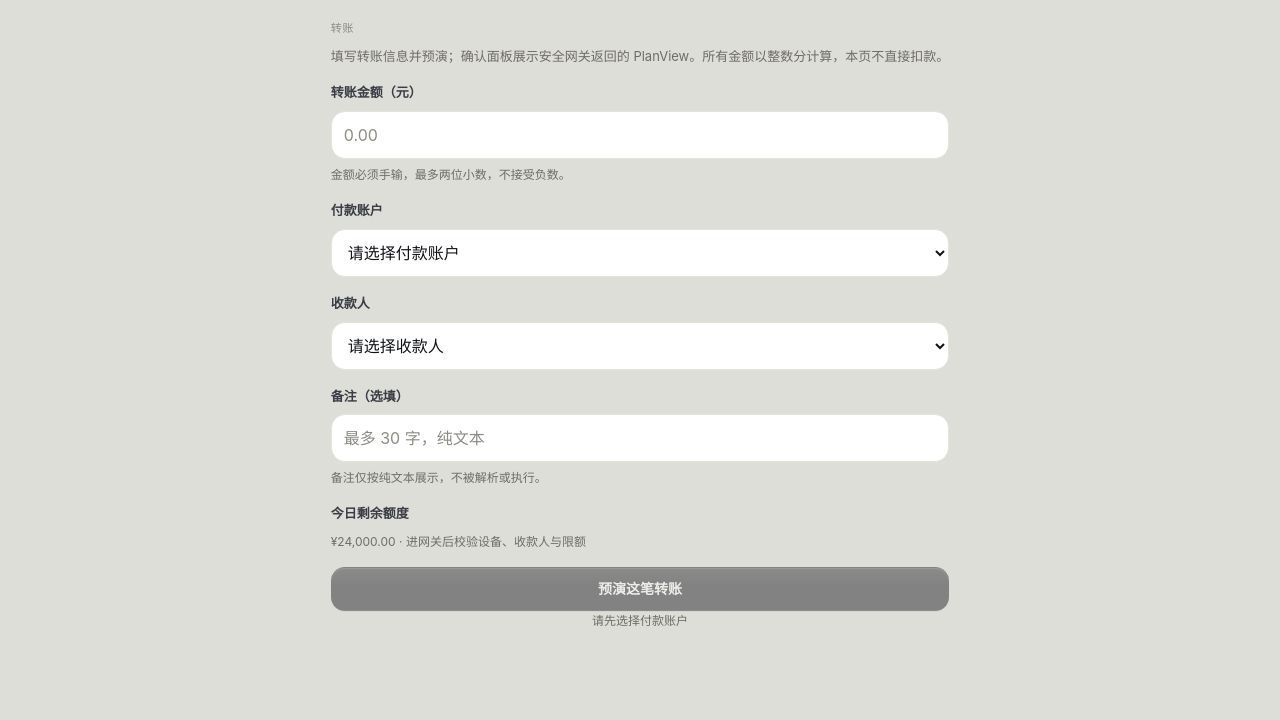
Scenario: security: stale preview invalidation › editing amount during preview: old response does not open panel; new preview accepted
Type "3000" into the field labelled "转账金额（元）". click: {"x": 640, "y": 135}
box: [344,112,936,158]
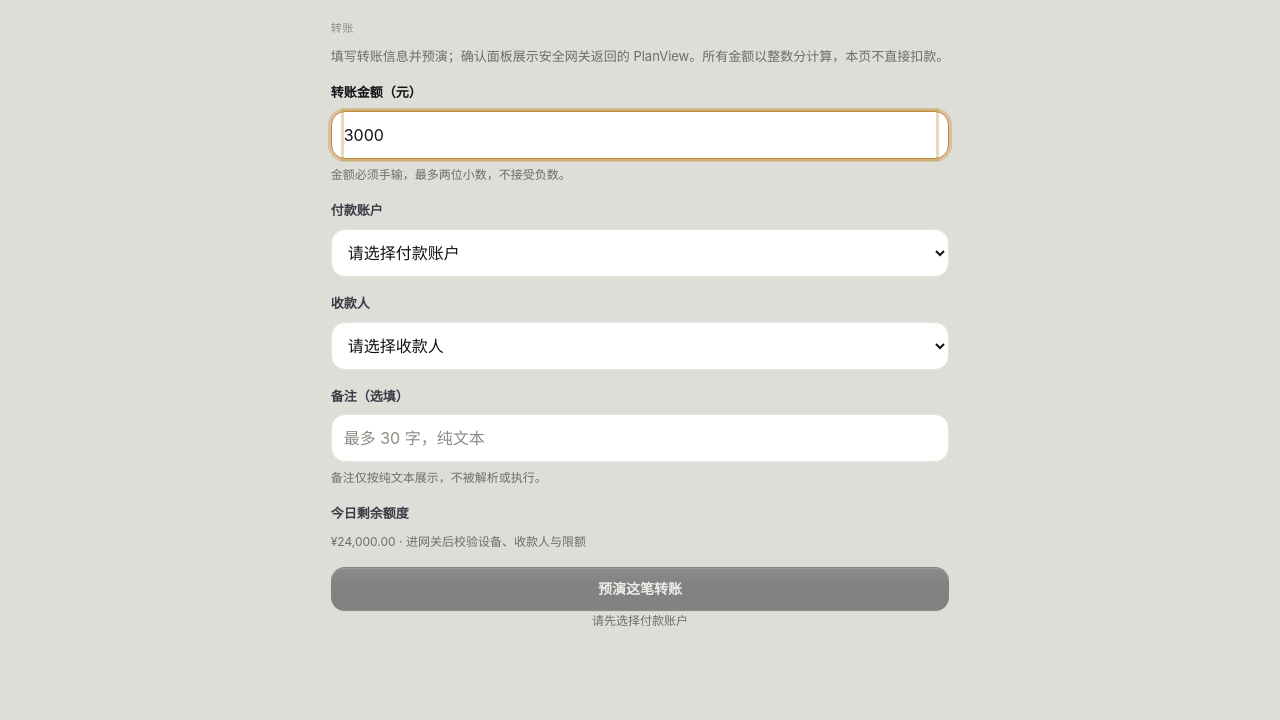
Select "活期 · 尾号 1234" in the dropdown labelled "付款账户". click: {"x": 640, "y": 253}
box: [331,229,949,277]
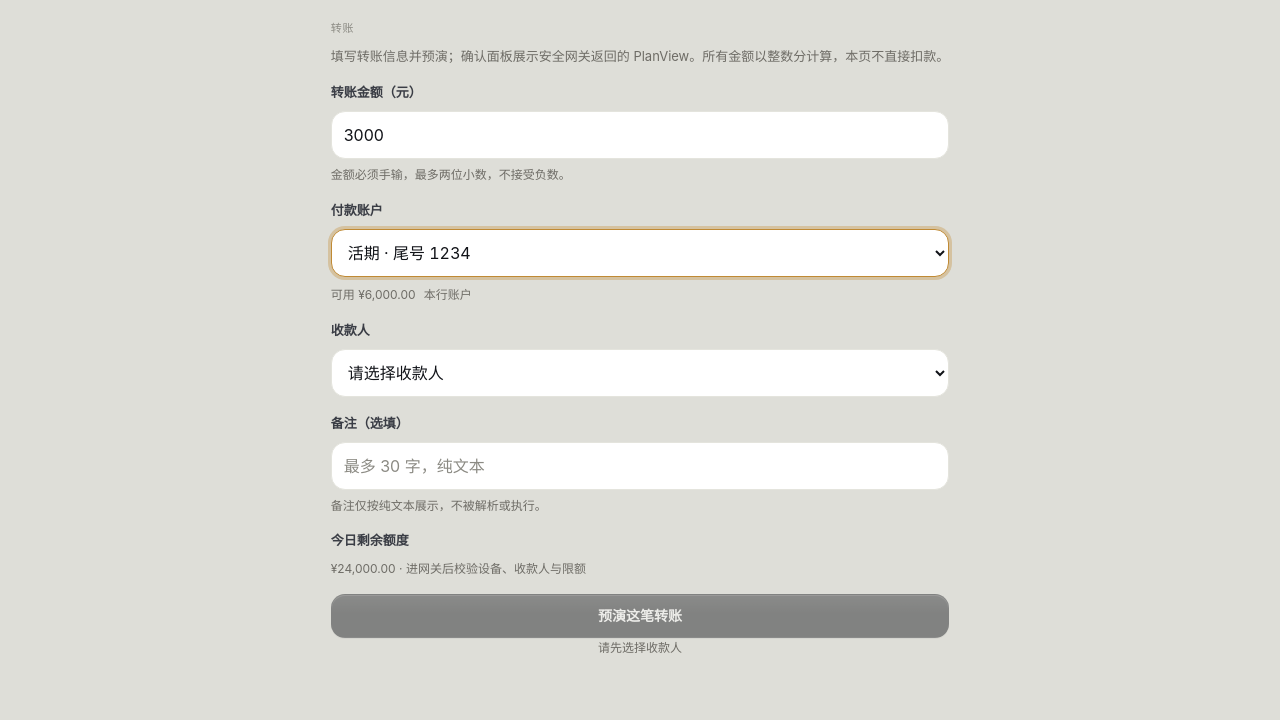
Select "王五 · 本行 尾号 8891" in the dropdown labelled "收款人". click: {"x": 640, "y": 373}
box: [331,349,949,397]
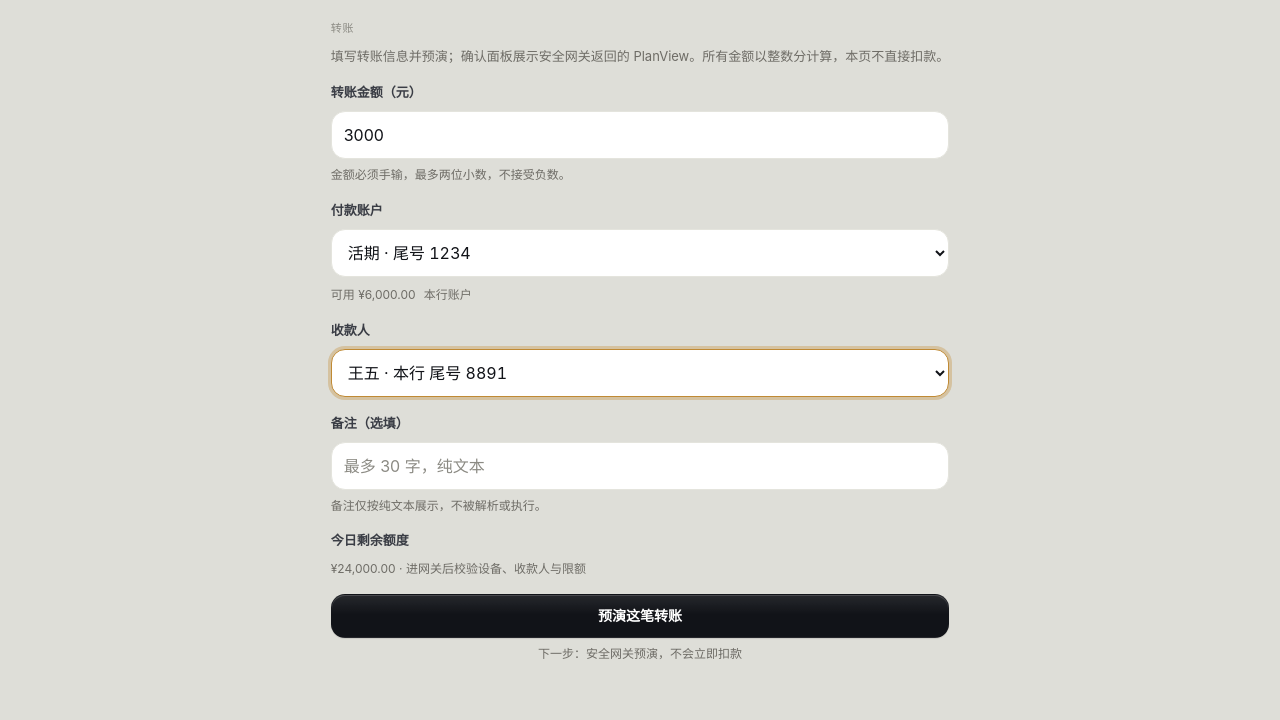
Click the button "预演这笔转账". click: {"x": 640, "y": 616}
box: [331,594,949,638]
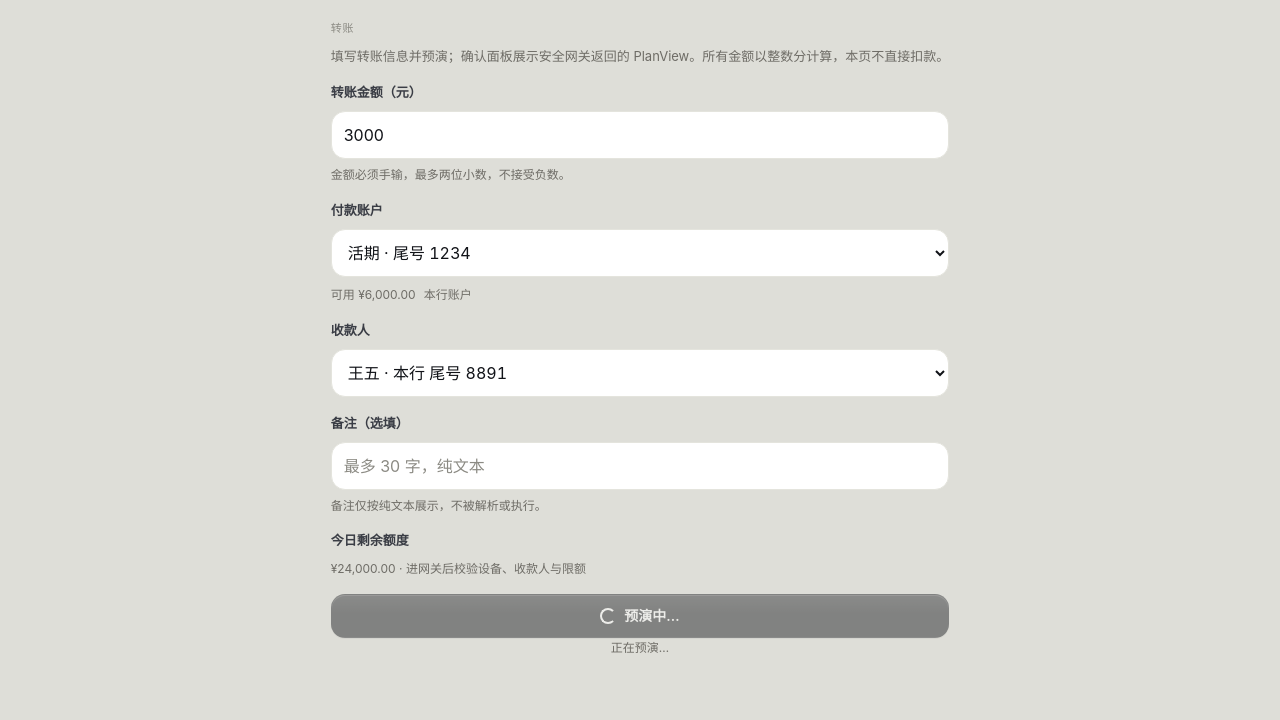
Replace the text in the field labelled "转账金额（元）" with "4000". click: {"x": 640, "y": 135}
box: [344,112,936,158]
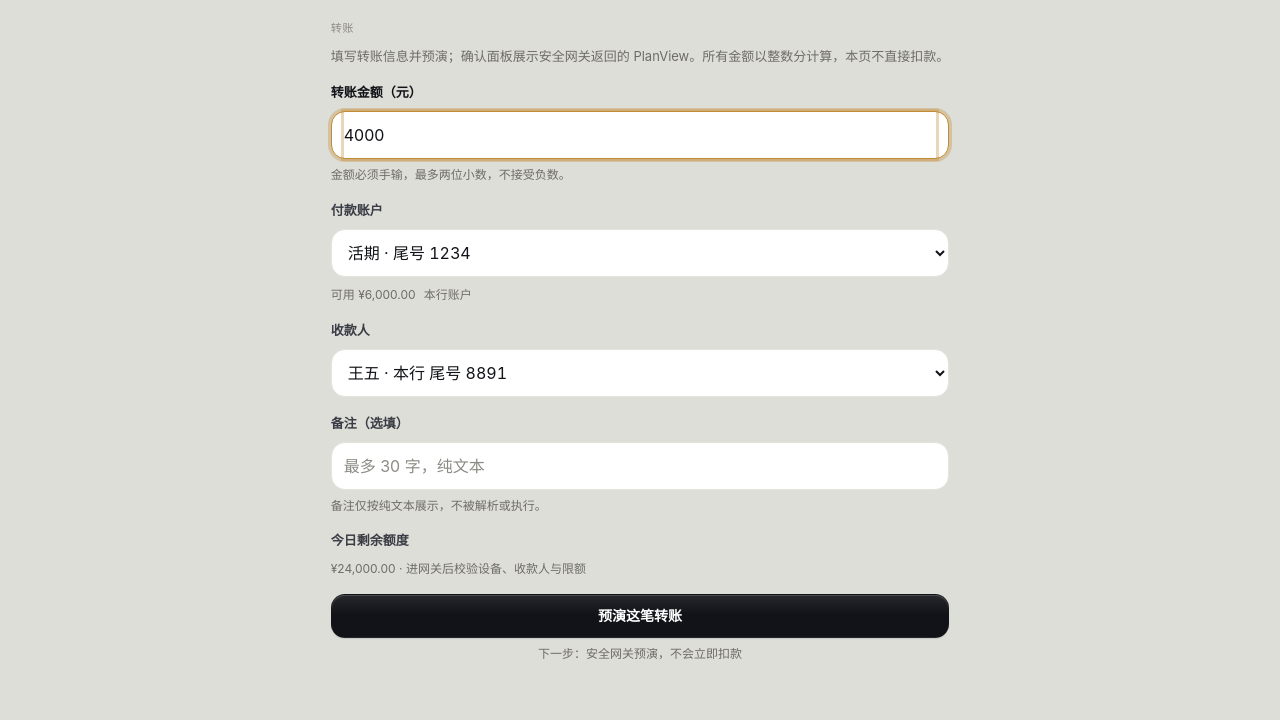
Click the button "预演这笔转账". click: {"x": 640, "y": 616}
box: [331,594,949,638]
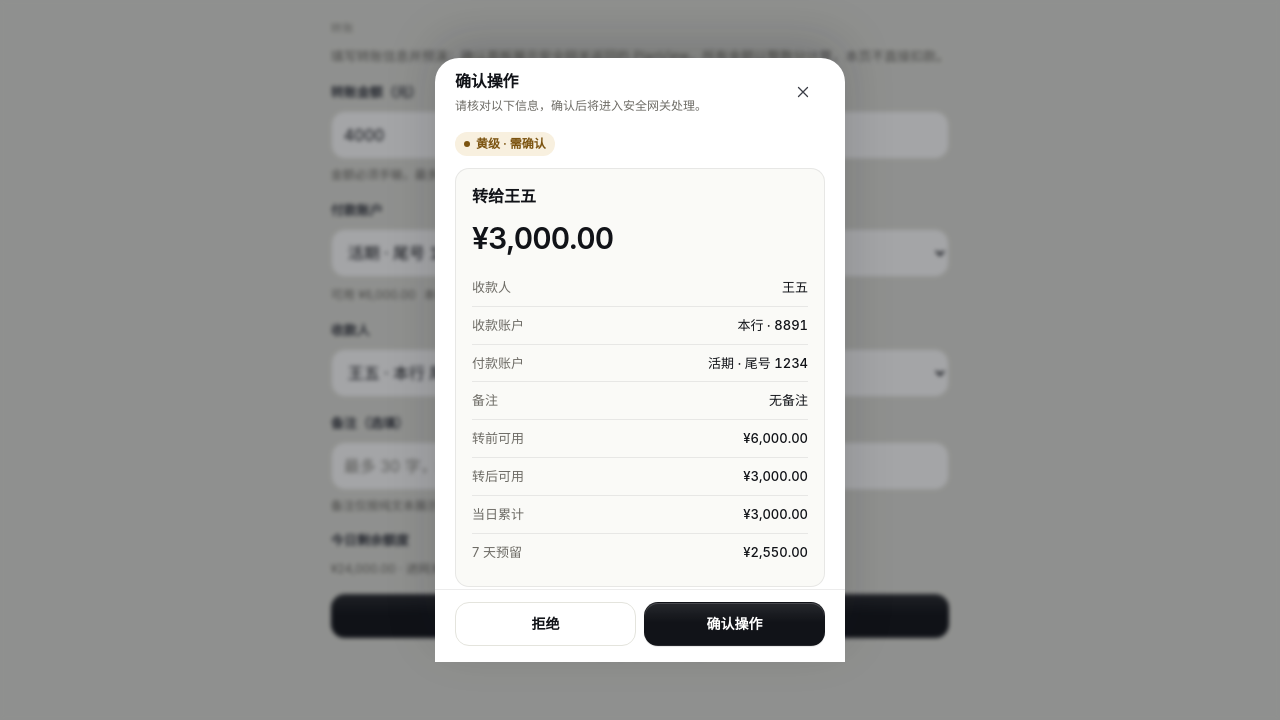
Check: the dialog "确认操作" is shown, box [435,58,845,662]
